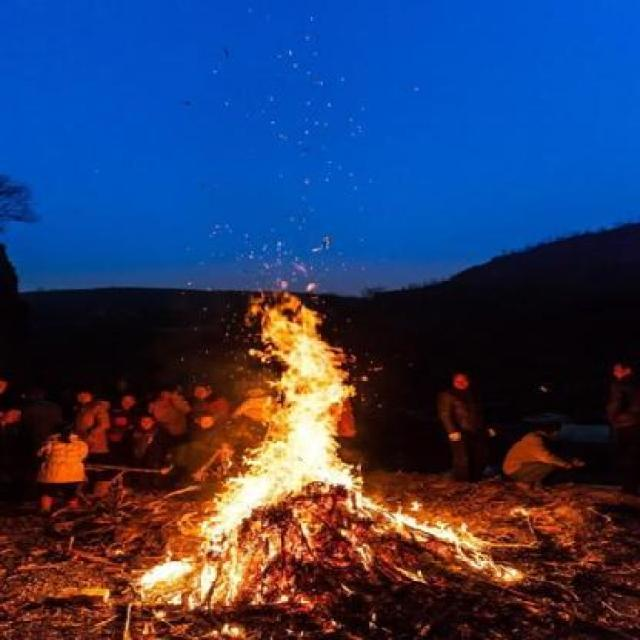Fire: (143, 278, 522, 636)
